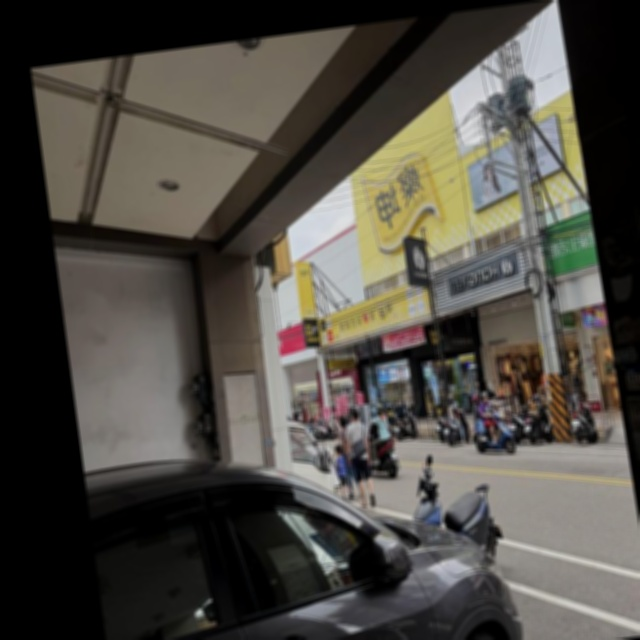Sin_Casco_Mascarrilla: (350, 407, 359, 422), (338, 414, 347, 428), (334, 443, 342, 456)
Sin_Chaleco: (349, 421, 368, 456), (335, 456, 346, 477), (447, 402, 456, 421)
